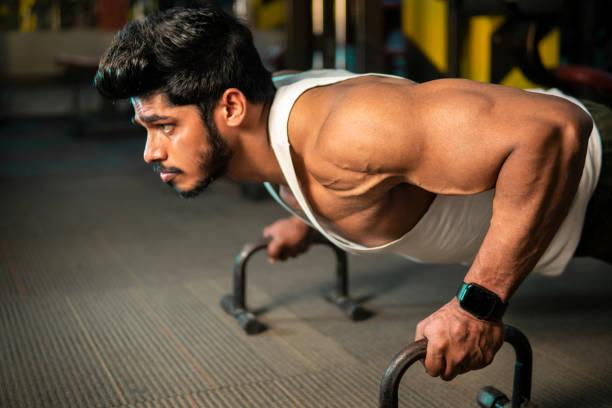no_helmet: (89, 71, 286, 166)
none: (243, 108, 608, 244)
